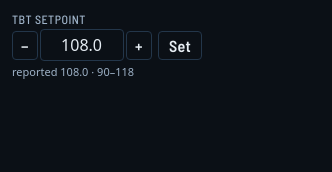
Test: widgets › Esc in a field with an edit cancels the edit and does not close the view
Replace the text in the number field with "111" at point(82, 45), box [40,29,124,61]
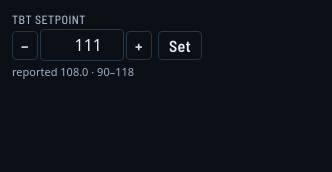
Press Escape in the number field, box [40,29,124,61]
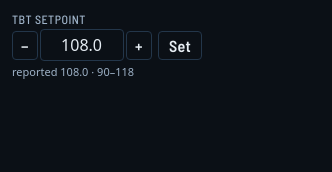
Expected: the number field holds "108.0", [40,29,124,61]
